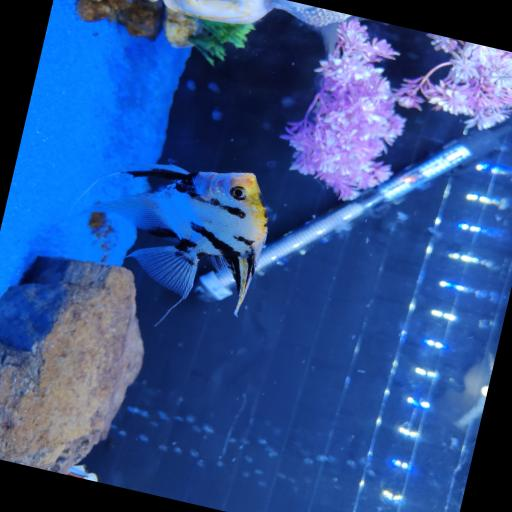Fish: (82, 164, 266, 314), (454, 352, 494, 427), (66, 464, 97, 481)
